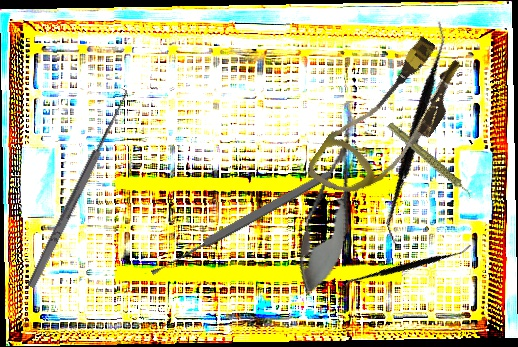Cannula: (303, 23, 475, 220)
Handpiece: (386, 108, 473, 215)
Hook Surgical: (17, 83, 134, 291)
Micro Scissor: (287, 111, 374, 301)
Spatula Surgical: (334, 20, 500, 247), (341, 200, 473, 335)
Surgical Spoon: (148, 168, 334, 278)
